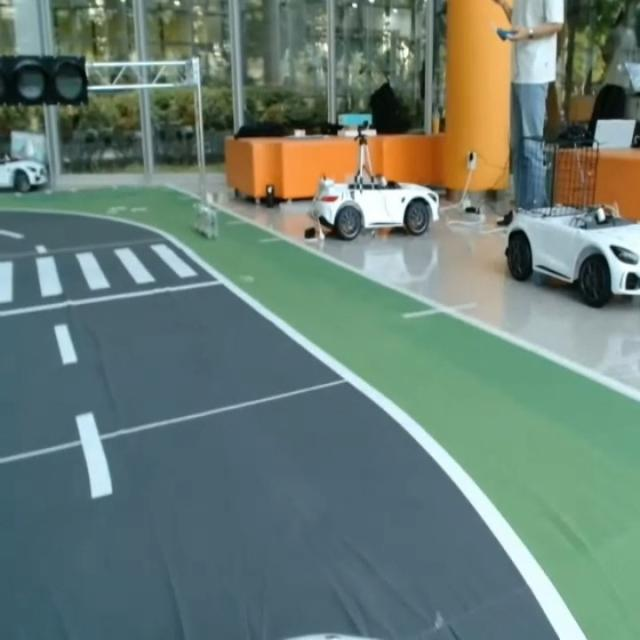traffic-light: (0, 54, 92, 109)
